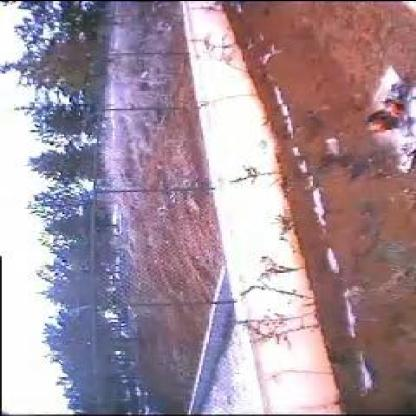-: (352, 152, 380, 168)
foggia-v2-map80-epoch100 - v1 4323: (384, 99, 402, 117)
